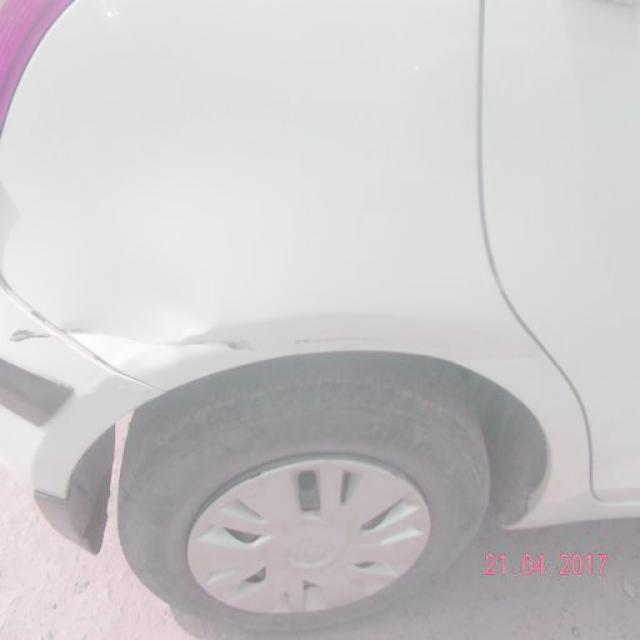car damage: (8, 325, 256, 351), (293, 330, 407, 348)
